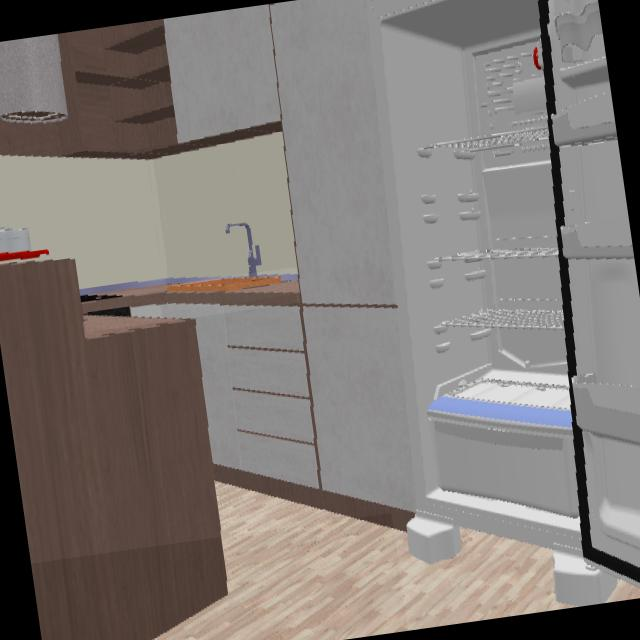countertop: (83, 284, 300, 314)
fridge: (367, 0, 640, 591)
sink: (167, 275, 298, 303)
